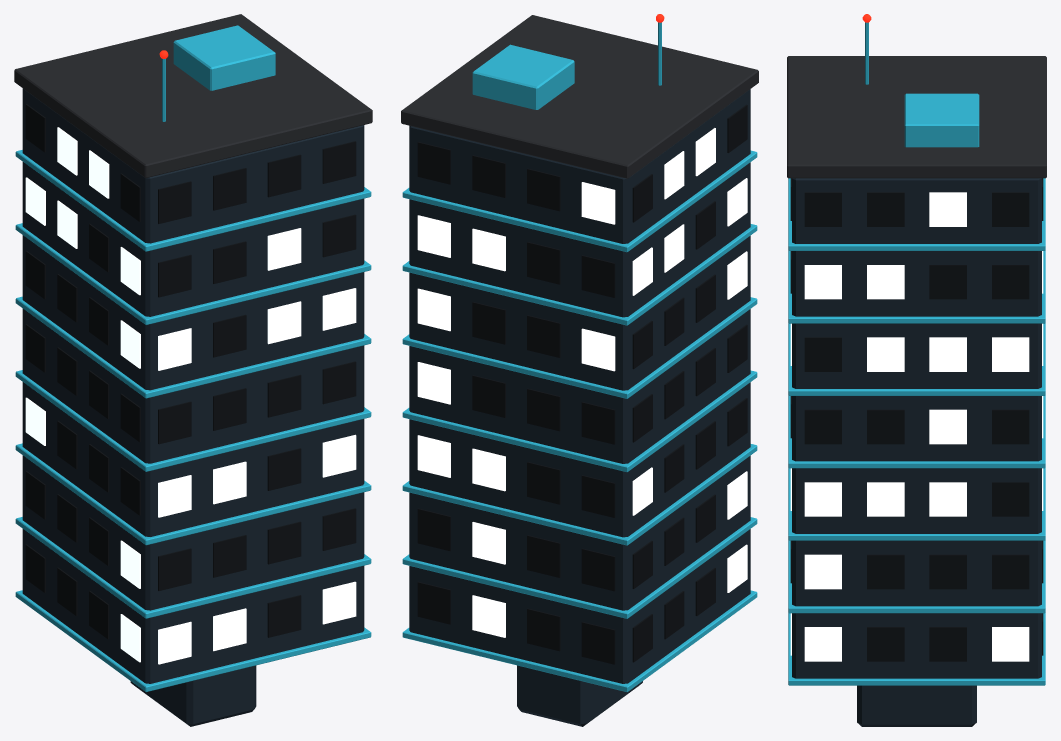
The model's file is bld_glass.glb.
3 views of the same model, side by side, from view 1: azimuth 30°, elevation 25°; view 2: azimuth 150°, elevation 25°; view 3: azimuth 270°, elevation 25° (orthographic).
Parts seen in each view (by area): view 1: intact, chunk_001, chunk_000, chunk_210; view 2: intact, chunk_000, chunk_010, chunk_210, chunk_001; view 3: intact, chunk_000, chunk_010.
Part boxes in pixels (x1,y1,x2,y2): intact: (14,14,372,692); chunk_001: (134,666,253,725); chunk_000: (131,665,256,726); chunk_210: (152,681,192,724); intact: (401,14,758,692); chunk_000: (518,665,581,726); chunk_010: (517,666,637,726); chunk_210: (538,681,642,725); chunk_001: (551,674,582,724); intact: (787,14,1046,685); chunk_000: (857,685,976,726); chunk_010: (862,685,967,726).
Size of the model in its own units: 10.4 by 29.66 by 10.4.
